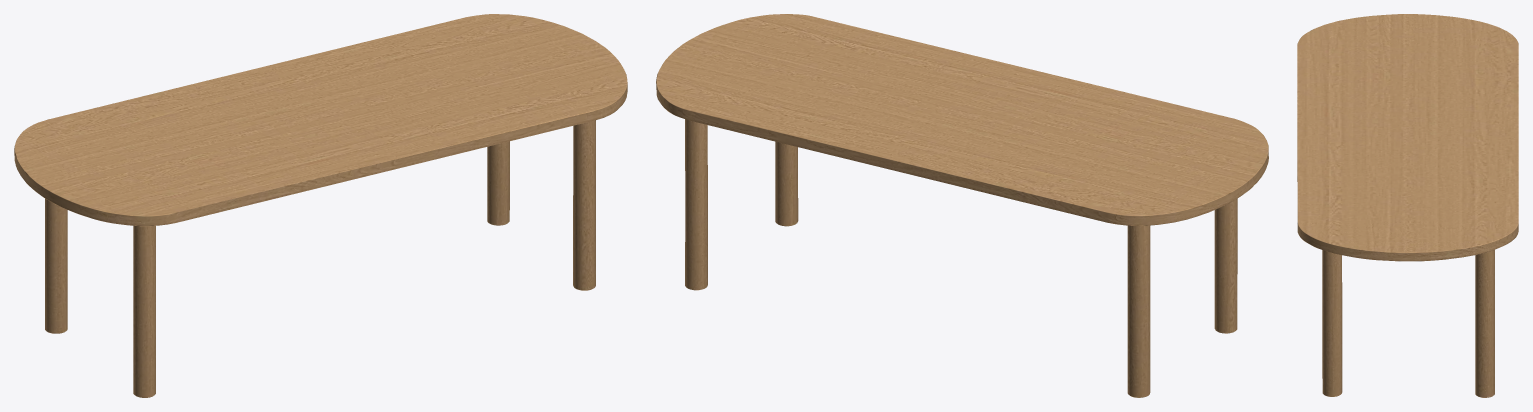
Rendered from stockholm-2025-mesa-chapa-roblechapa-roble.glb.
3 renders of one model, left to right at view 1: azimuth 30°, elevation 25°; view 2: azimuth 150°, elevation 25°; view 3: azimuth 270°, elevation 25°, orthographic. The views are drawn at different scales.
Parts seen in each view (by area): view 1: 79579984_oak_veneer_oak_veneer:2; view 2: 79579984_oak_veneer_oak_veneer:2; view 3: 79579984_oak_veneer_oak_veneer:2.
Part boxes in pixels (<box>): 79579984_oak_veneer_oak_veneer:2: <box>14,14,627,397</box>; 79579984_oak_veneer_oak_veneer:2: <box>656,14,1268,397</box>; 79579984_oak_veneer_oak_veneer:2: <box>1297,14,1518,397</box>.
Size of the model in its own units: 2.3 by 0.7503 by 0.9011.
Materials: 1 (1 with a texture image).
